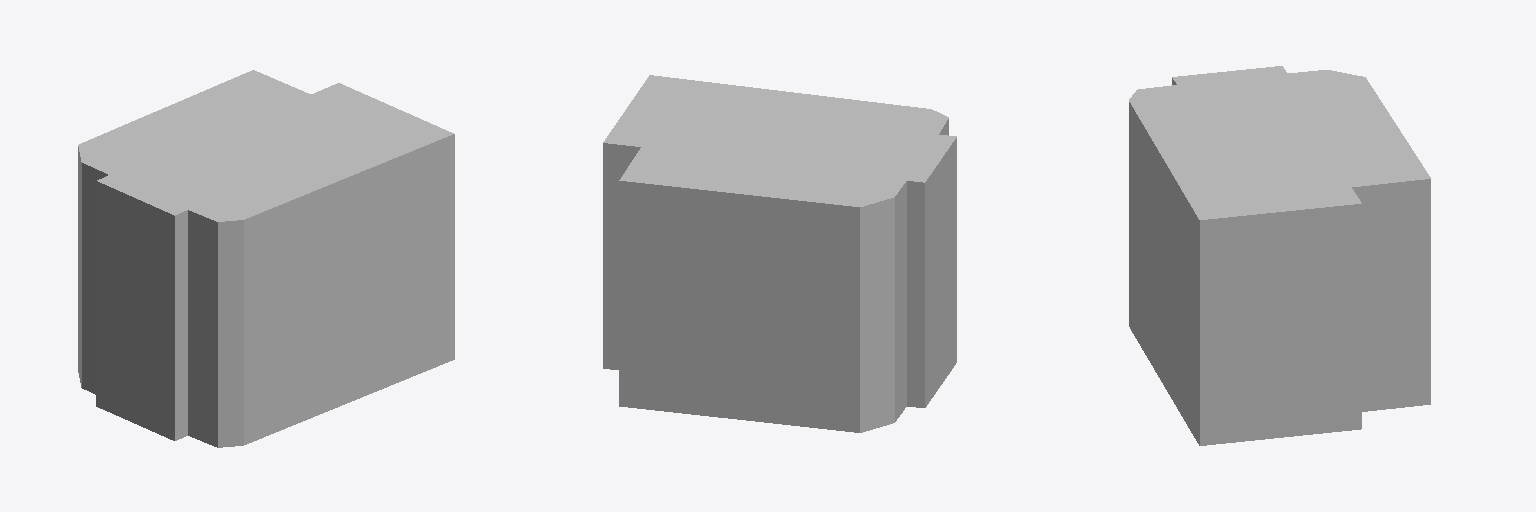
Rendered from hospital_2.obj.
3 renders of one model, left to right at view 1: azimuth 30°, elevation 25°; view 2: azimuth 150°, elevation 25°; view 3: azimuth 270°, elevation 25°, orthographic.
Parts seen in each view (by area): view 1: object_1; view 2: object_1; view 3: object_1.
Part boxes in pixels (x1,y1,x2,y2): object_1: (78, 70, 454, 447); object_1: (603, 75, 956, 432); object_1: (1129, 66, 1430, 445).
Size of the model in its own units: 52.88 by 36 by 43.75.